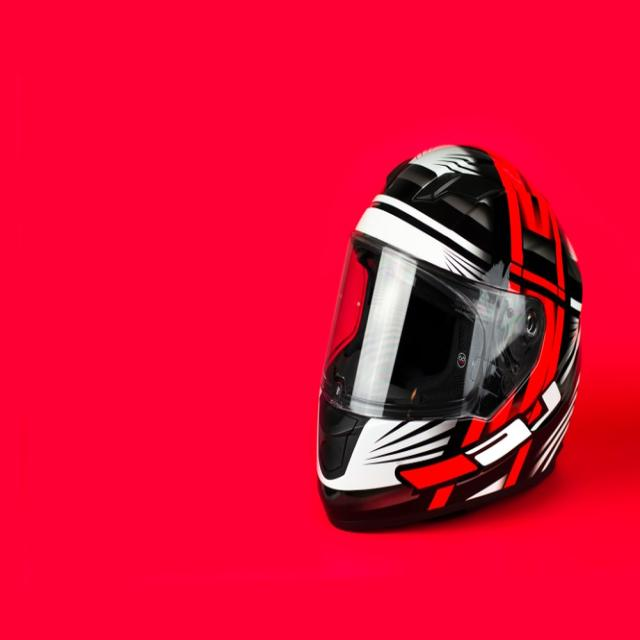Helm: (307, 142, 584, 534)
